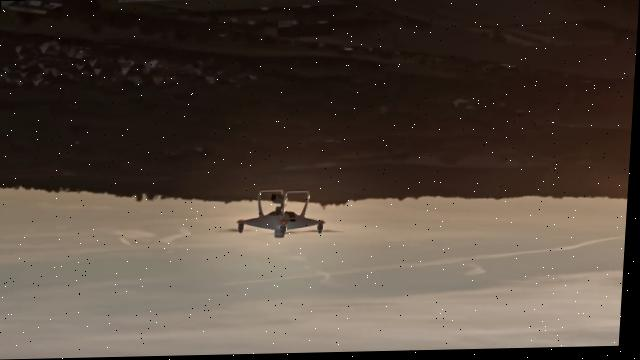drone: (216, 189, 349, 241)
